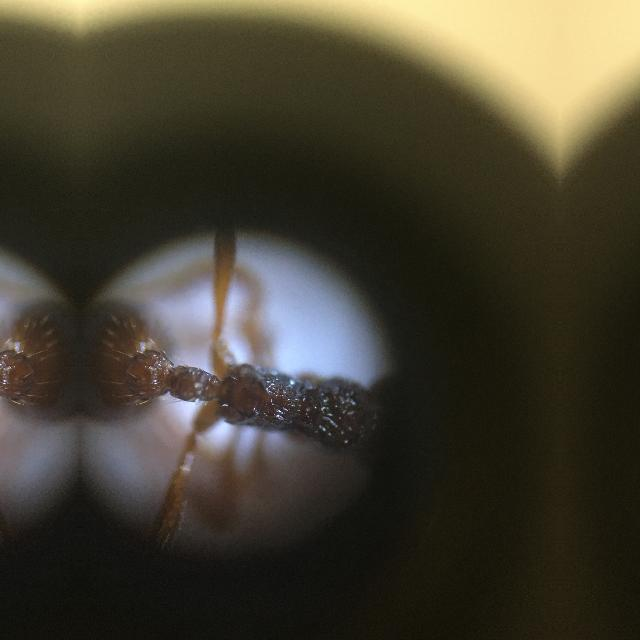Myrmica: (80, 258, 500, 580)
